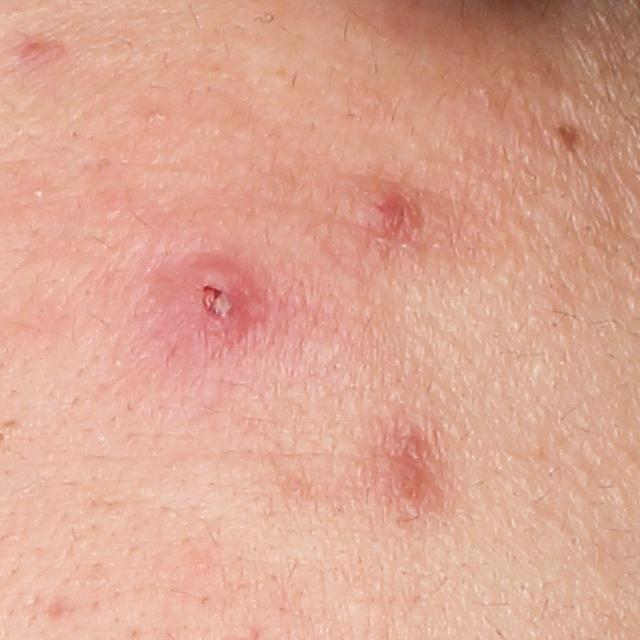comedo: (556, 85, 583, 116)
papule: (140, 244, 276, 349), (355, 181, 435, 252), (372, 445, 438, 515), (17, 30, 62, 66)
